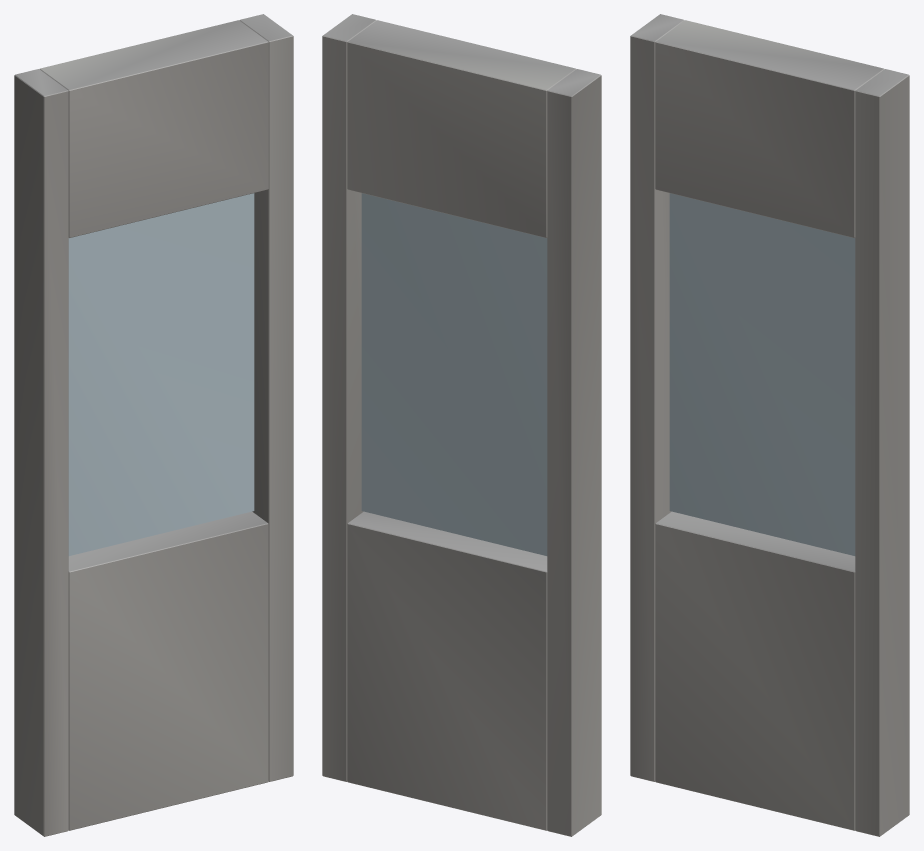
File: window_delco_01_w120.glb
3 renders of one model, left to right at view 1: azimuth 30°, elevation 25°; view 2: azimuth 150°, elevation 25°; view 3: azimuth 330°, elevation 25°, orthographic.
Visible parts, largest first — view 1: Window_Glass, Window_Sill, Window_Jamb_L, Window_Header, Window_Jamb_R; view 2: Window_Glass, Window_Sill, Window_Jamb_L, Window_Header, Window_Jamb_R; view 3: Window_Glass, Window_Sill, Window_Jamb_R, Window_Header, Window_Jamb_L.
Boxes of the visible parts, <box> form: Window_Glass: <box>68,193,254,555</box>; Window_Sill: <box>68,511,268,830</box>; Window_Jamb_L: <box>14,69,68,836</box>; Window_Header: <box>39,20,268,237</box>; Window_Jamb_R: <box>239,14,293,781</box>; Window_Glass: <box>361,193,547,555</box>; Window_Sill: <box>347,511,547,830</box>; Window_Jamb_L: <box>547,69,601,836</box>; Window_Header: <box>347,20,576,237</box>; Window_Jamb_R: <box>322,14,376,781</box>; Window_Glass: <box>669,193,855,555</box>; Window_Sill: <box>655,511,855,830</box>; Window_Jamb_R: <box>855,69,909,836</box>; Window_Header: <box>655,20,884,237</box>; Window_Jamb_L: <box>630,14,684,781</box>.
Size of what is drawn, in the model's own units: 1.2 by 3.4 by 0.25.
